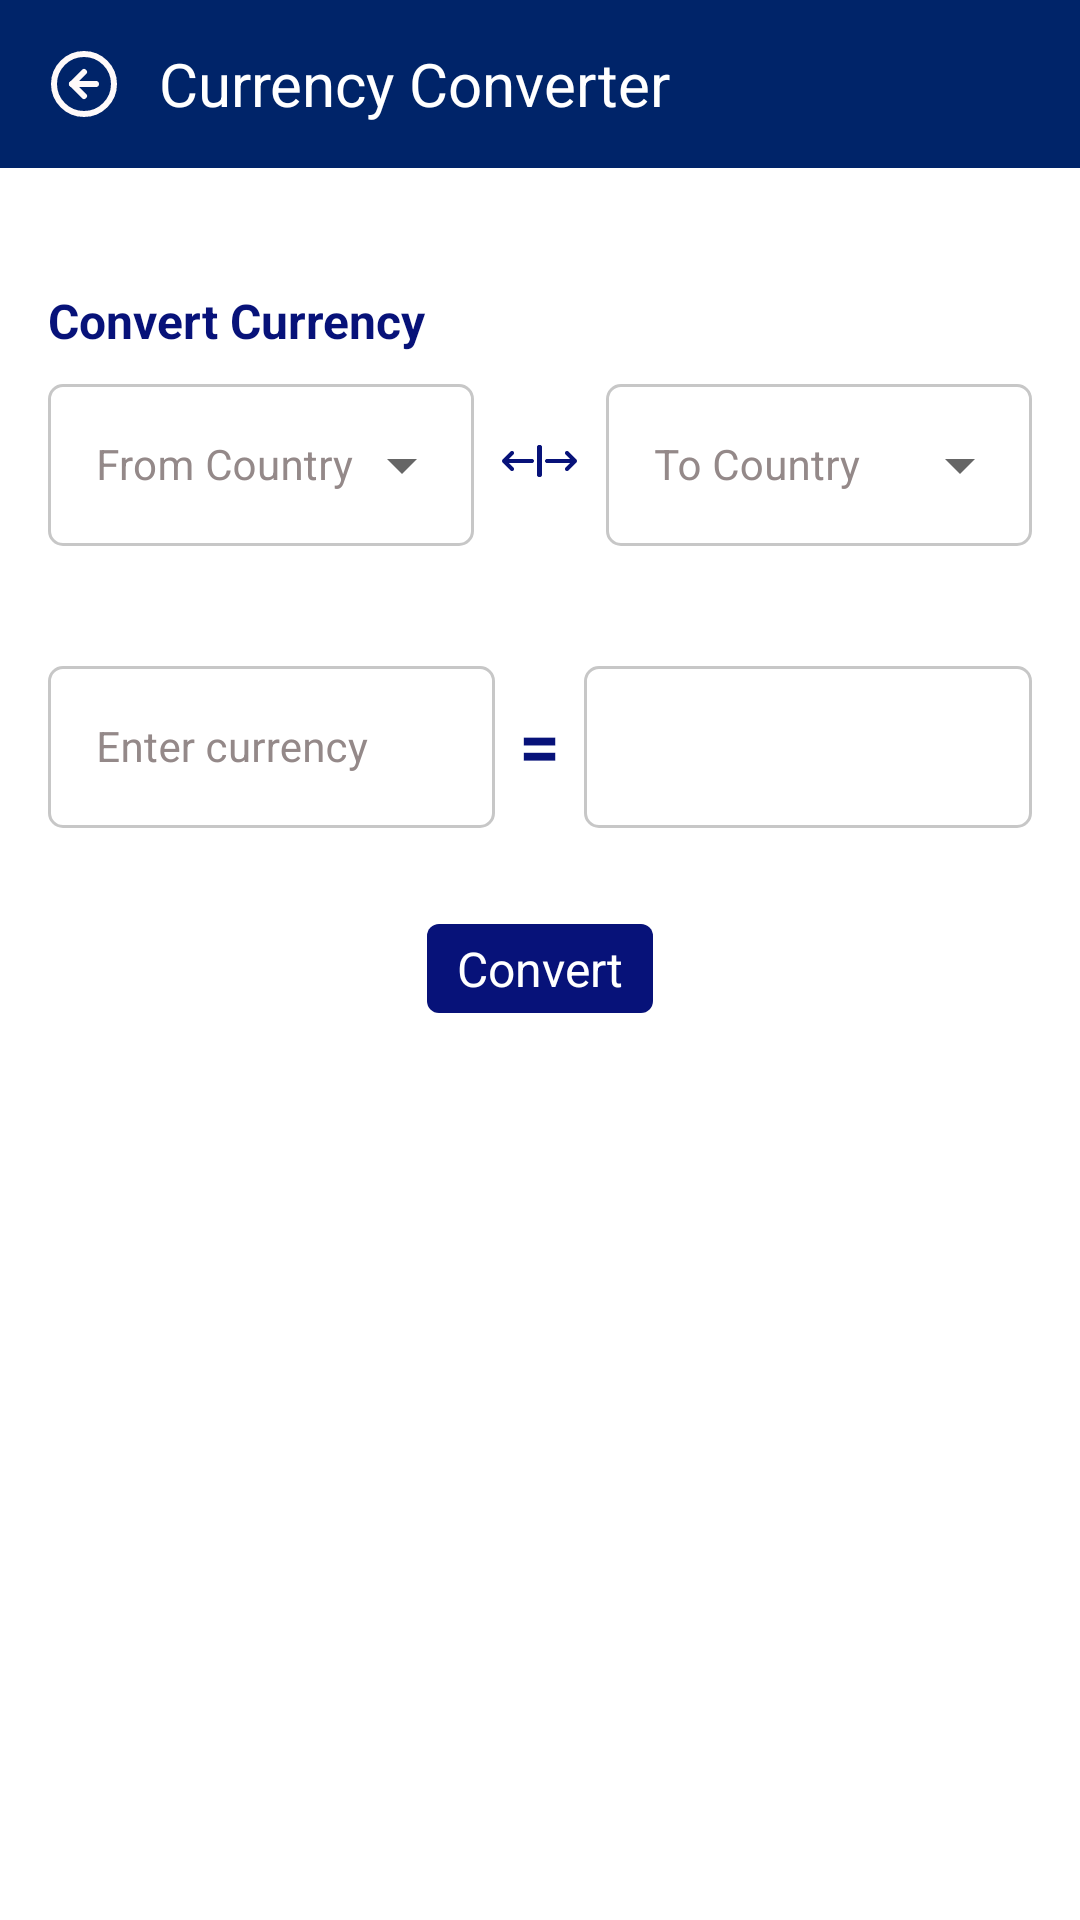

Locate icon controls on the screen. Image size 1080x1920, boxes as (x1, y1, x2, y2).
back: (51, 51, 117, 117)
Converter seperator: (502, 445, 577, 477)
